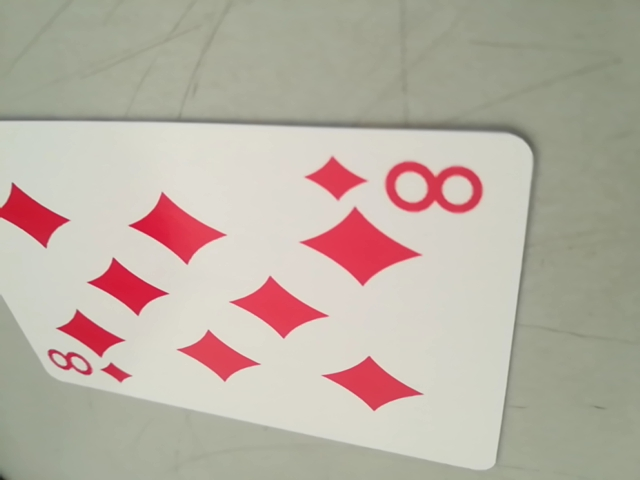fk 8: (307, 152, 488, 219), (43, 346, 133, 383)
